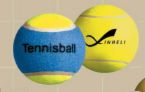tennis ball: (12, 12, 85, 85), (70, 4, 140, 74)
